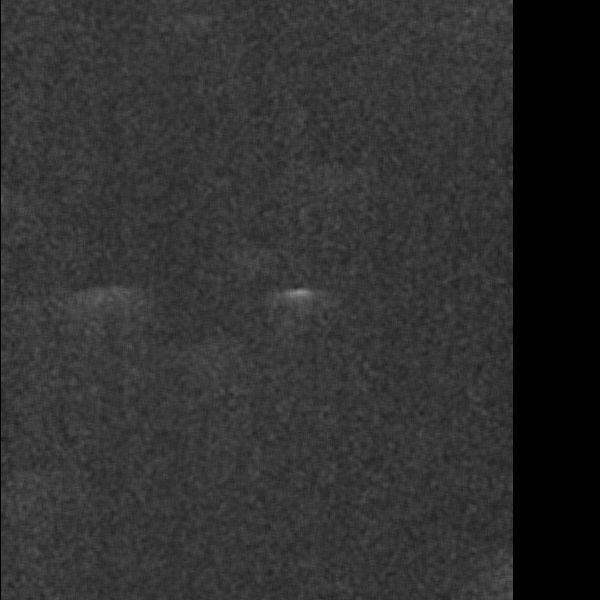spark: (176, 396, 216, 439)
